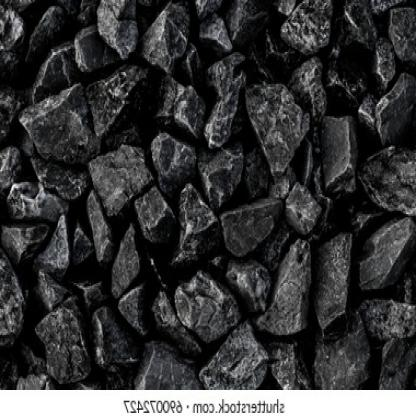Sedimentary_coal: (246, 76, 316, 176), (21, 76, 98, 156), (39, 295, 93, 390), (93, 133, 156, 210), (136, 3, 195, 72), (222, 191, 286, 249), (90, 0, 140, 64), (137, 343, 197, 393), (4, 216, 46, 269)
